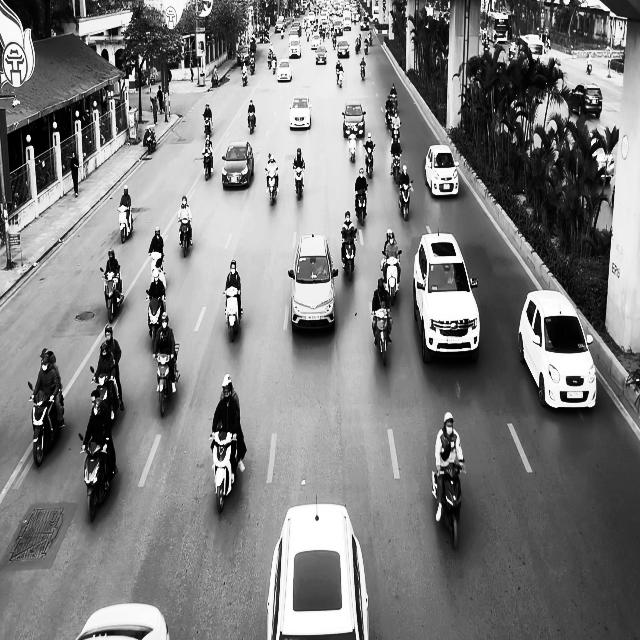bus: (487, 11, 511, 44)
car: (266, 499, 370, 639), (517, 289, 597, 410), (413, 226, 480, 364), (288, 234, 338, 332), (76, 603, 169, 639), (425, 144, 459, 197), (221, 140, 254, 188), (570, 82, 603, 118), (288, 95, 312, 130), (342, 102, 366, 137), (277, 58, 292, 82), (336, 38, 349, 58), (315, 45, 327, 64)
motorbike: (78, 432, 118, 522), (28, 380, 65, 467), (431, 463, 464, 550), (209, 431, 238, 513), (153, 344, 180, 416), (90, 362, 118, 420), (100, 266, 124, 323), (371, 307, 392, 366), (145, 289, 165, 348), (381, 250, 401, 306), (223, 287, 243, 342), (341, 230, 357, 281), (398, 180, 413, 221), (117, 205, 133, 242), (354, 186, 368, 226), (178, 218, 192, 257), (265, 167, 279, 205), (292, 163, 305, 200), (363, 143, 375, 178), (390, 150, 402, 183), (202, 148, 213, 181), (144, 126, 156, 153), (347, 132, 356, 162), (203, 115, 212, 138), (247, 111, 256, 134), (336, 67, 344, 88), (241, 68, 248, 86), (360, 62, 366, 81)
